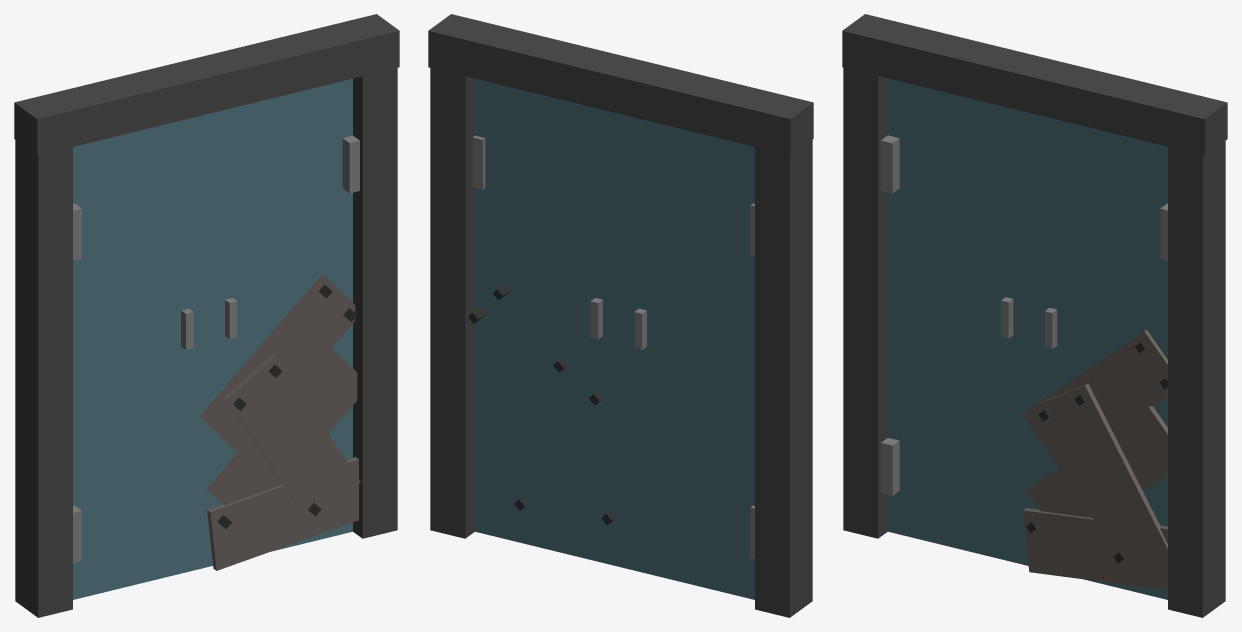
File: door cafe.fbx
3 renders of one model, left to right at view 1: azimuth 30°, elevation 25°; view 2: azimuth 150°, elevation 25°; view 3: azimuth 330°, elevation 25°, orthographic.
Parts seen in each view (by area): view 1: PM3D_Plane3D193_016; view 2: PM3D_Plane3D193_016; view 3: PM3D_Plane3D193_016.
Part boxes in pixels (x1=…): PM3D_Plane3D193_016: x1=14, y1=14, x2=399, y2=617; PM3D_Plane3D193_016: x1=428, y1=14, x2=813, y2=617; PM3D_Plane3D193_016: x1=842, y1=14, x2=1227, y2=617.
Bounding box in the file's own units: 242 × 319 × 28.15.
